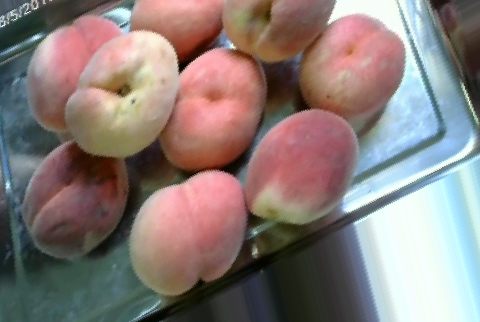Peach: (65, 28, 179, 158), (128, 171, 243, 294), (159, 47, 265, 170), (248, 107, 358, 225), (22, 140, 125, 257), (297, 13, 405, 121), (30, 16, 122, 132), (219, 0, 335, 64), (128, 0, 232, 55)
